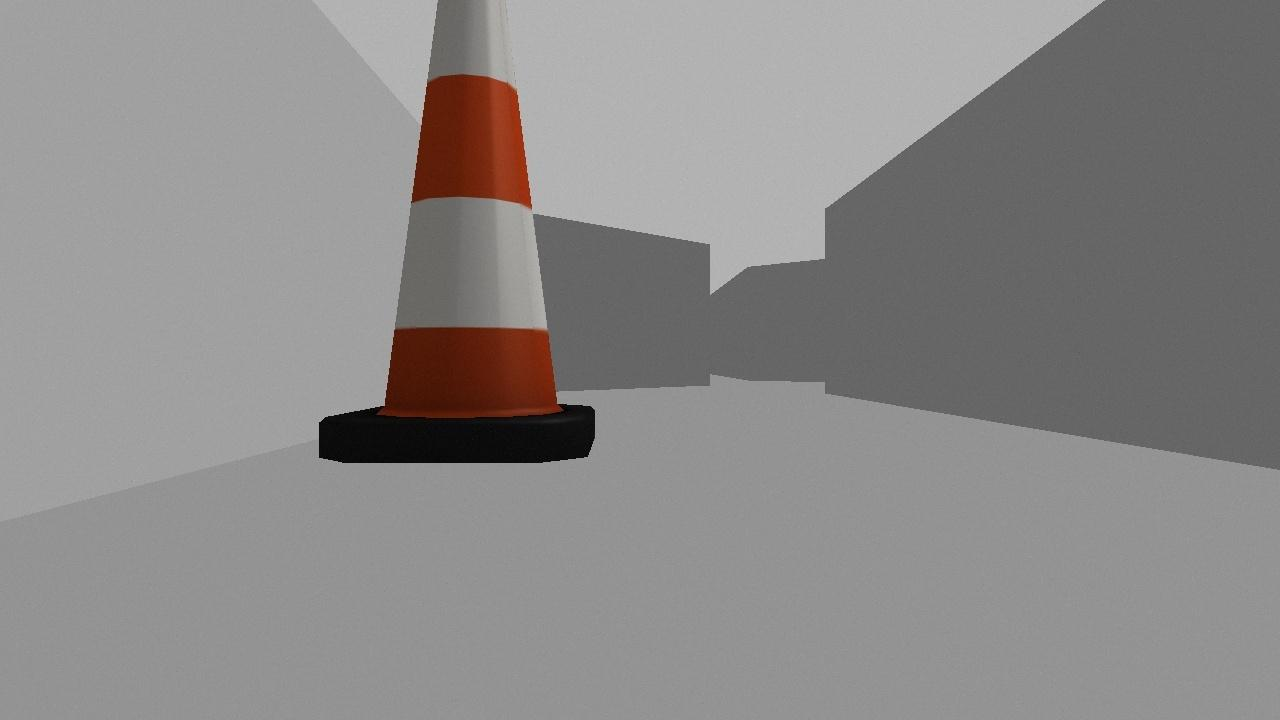cone_barrel: (316, 0, 595, 461)
